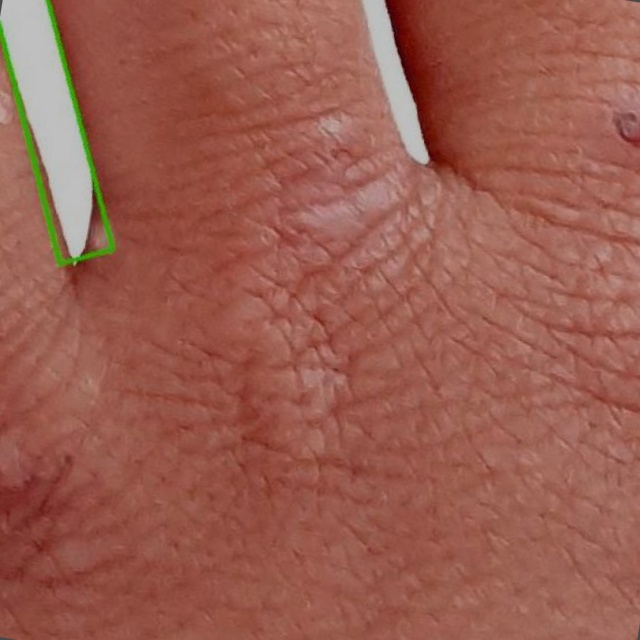Scabies: (25, 0, 114, 263)
